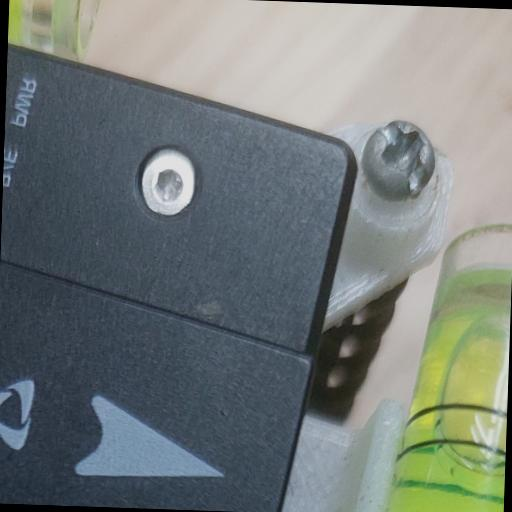Hex-Allen: (136, 142, 199, 220)
Phillips: (358, 116, 435, 202)
